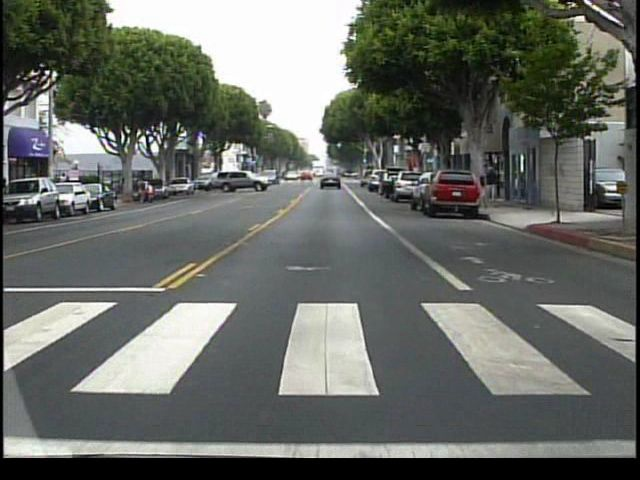person: (479, 169, 500, 211), (137, 177, 155, 209)
